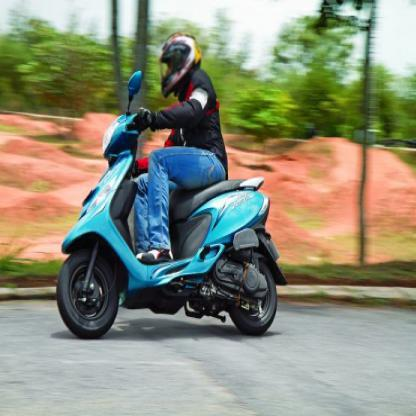Helmet: (153, 34, 207, 99)
